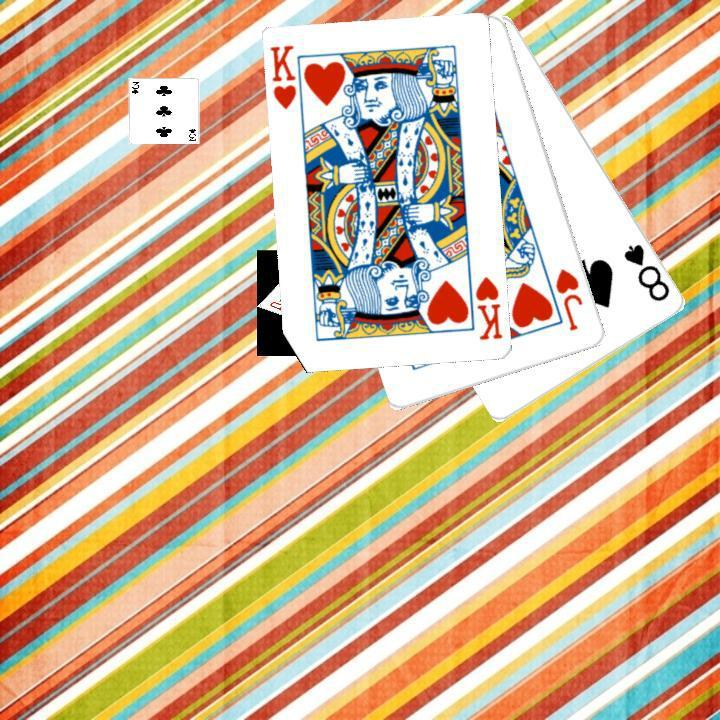8: (620, 239, 673, 304)
J: (551, 264, 585, 333)
K: (471, 273, 505, 342), (267, 41, 299, 112)
